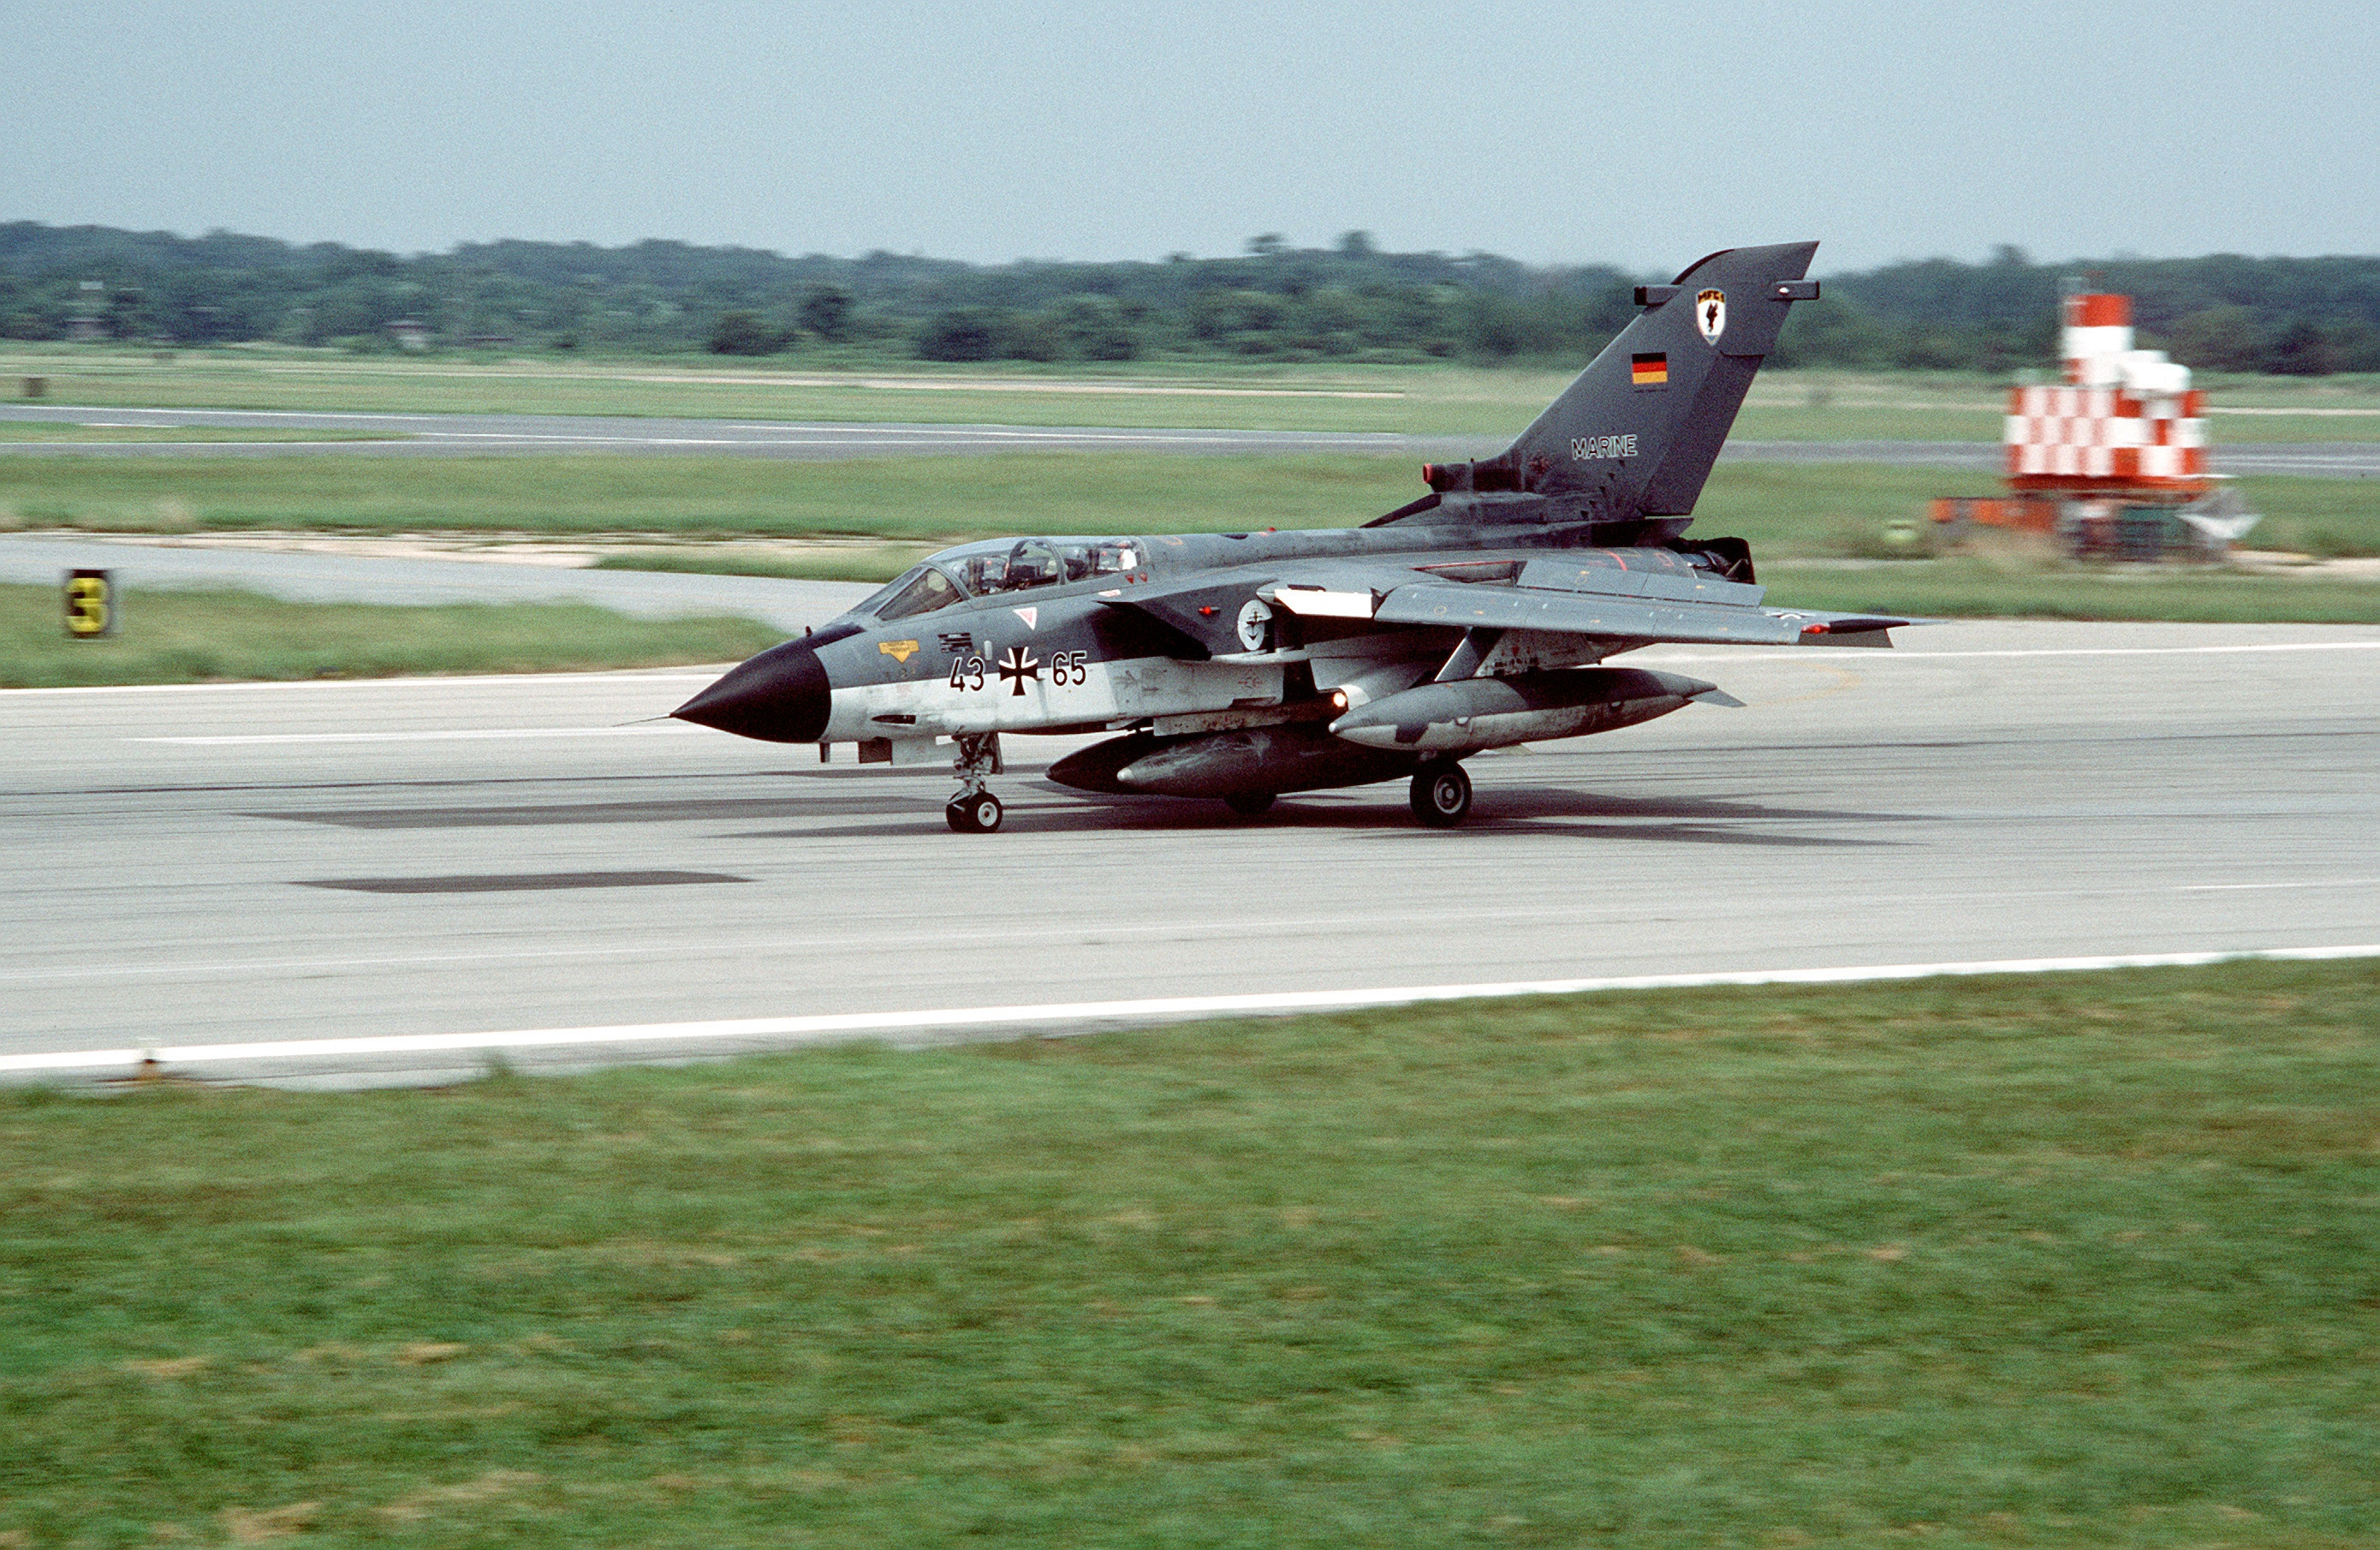Tornado: (609, 240, 1967, 835)
